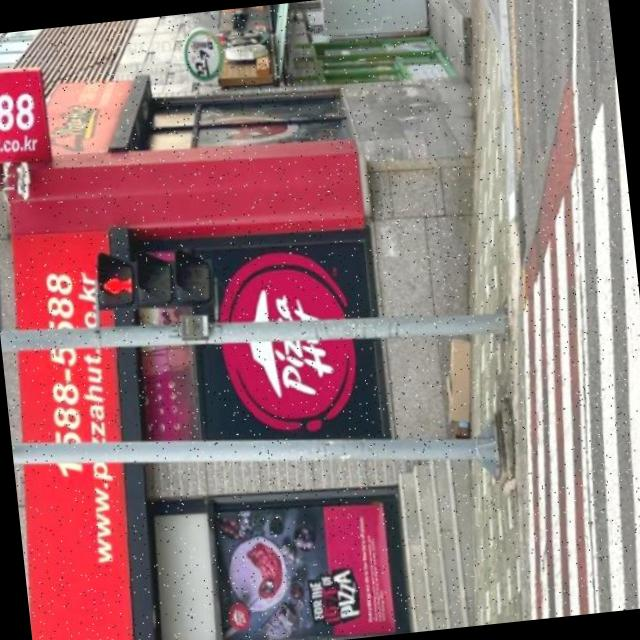red_light: (98, 263, 136, 301)
